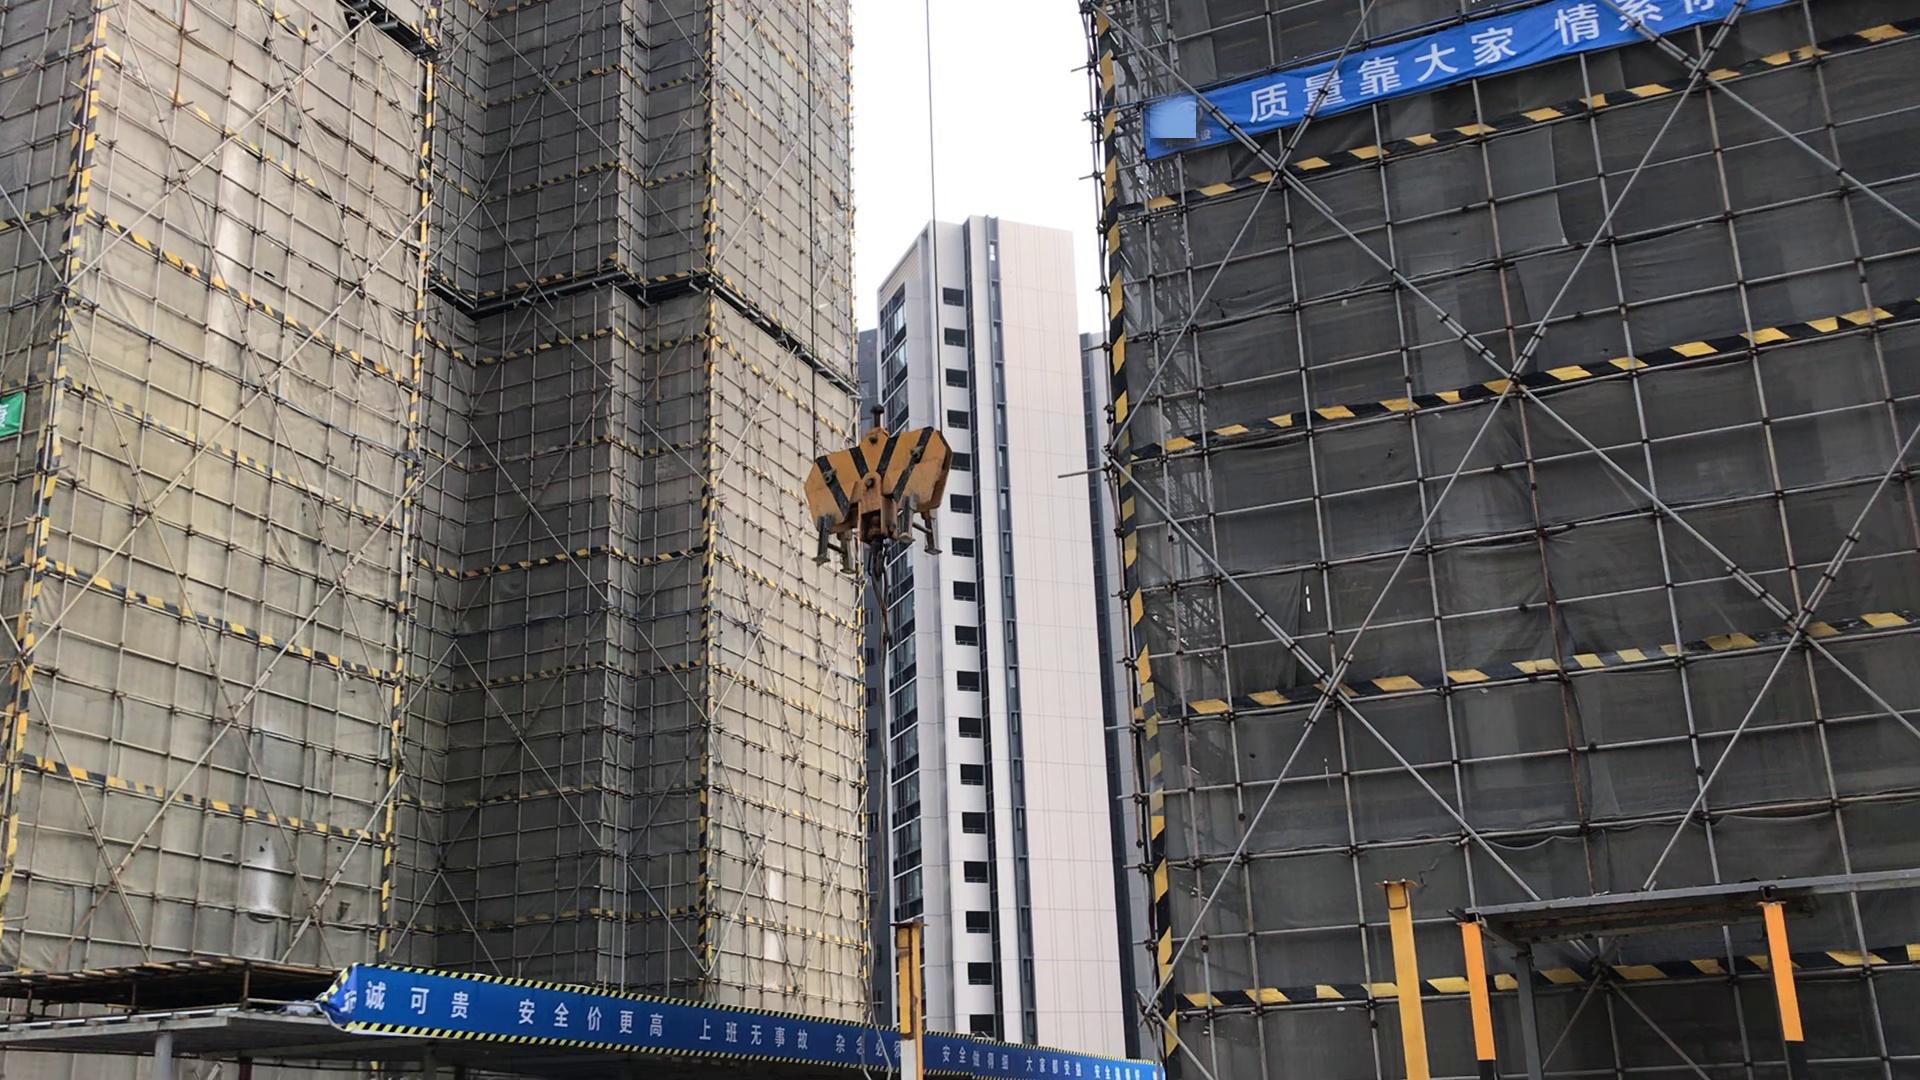hook: (800, 406, 953, 574)
slogan: (343, 964, 1160, 1080), (1162, 1, 1735, 153)
